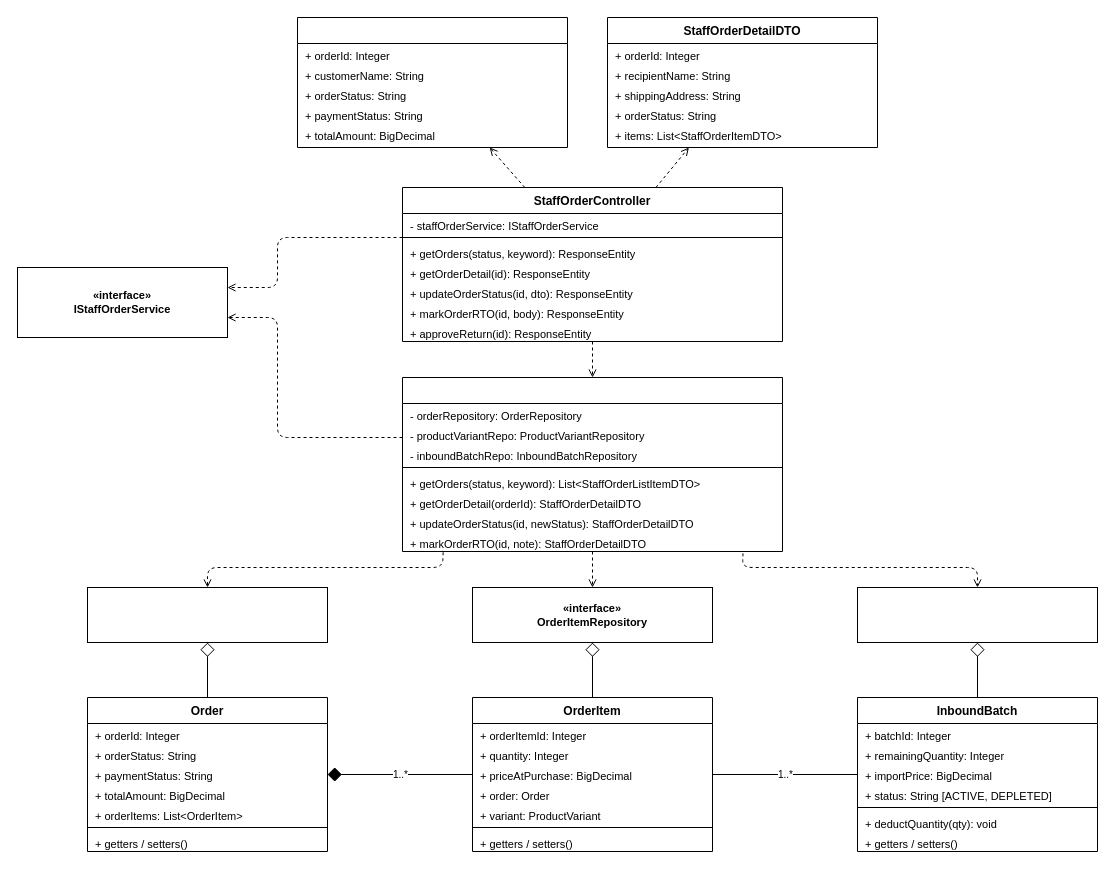
Some shapes in this 1115 by 872 pixel diagram are drawn without their labels. Here are the shapes that lost their labels. From the top down, the box of each, then its label:
(296, 16, 568, 148): StaffOrderListItemDTO
(402, 376, 782, 552): StaffOrderService
(86, 586, 328, 642): «interface» OrderRepository
(856, 586, 1098, 642): «interface» InboundBatchRepository
